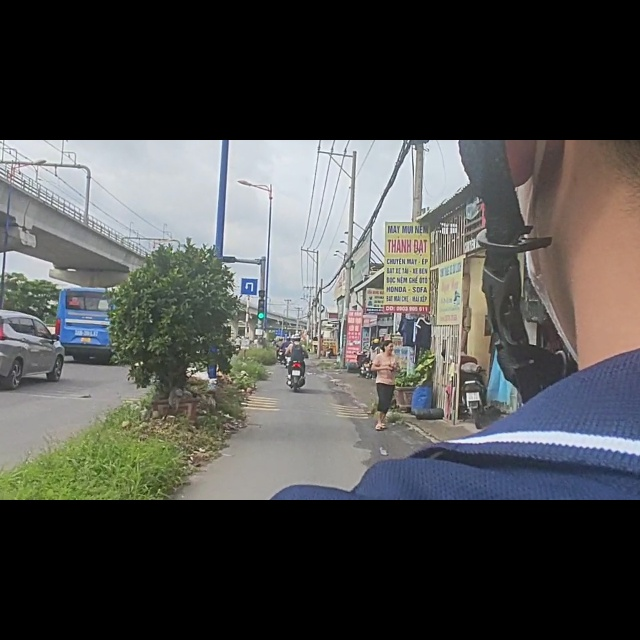bien_chi_dan: (239, 243, 261, 279)
